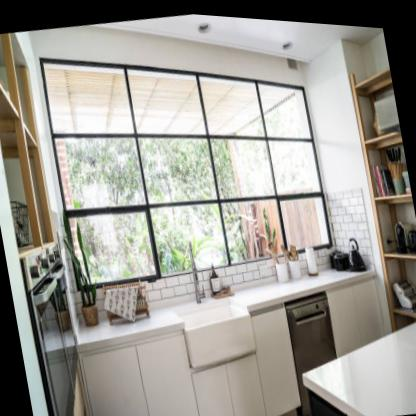Cabinet: (79, 297, 301, 416)
Window: (39, 56, 332, 284)
